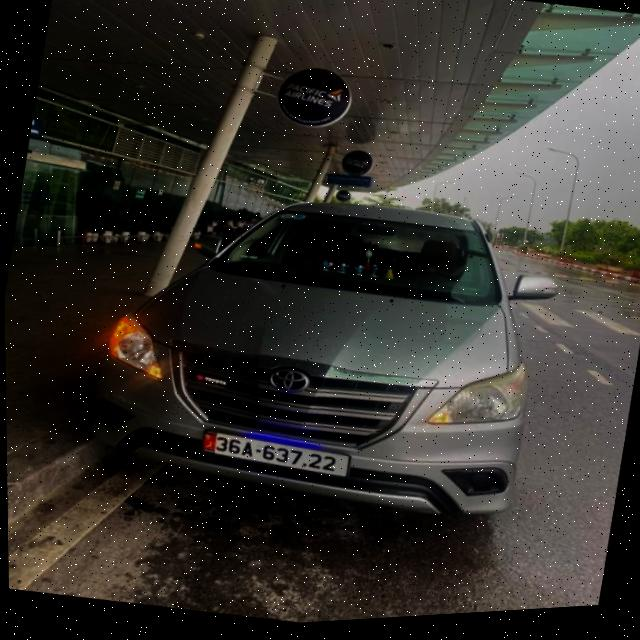car: (91, 149, 580, 562)
plate: (192, 414, 359, 493)
